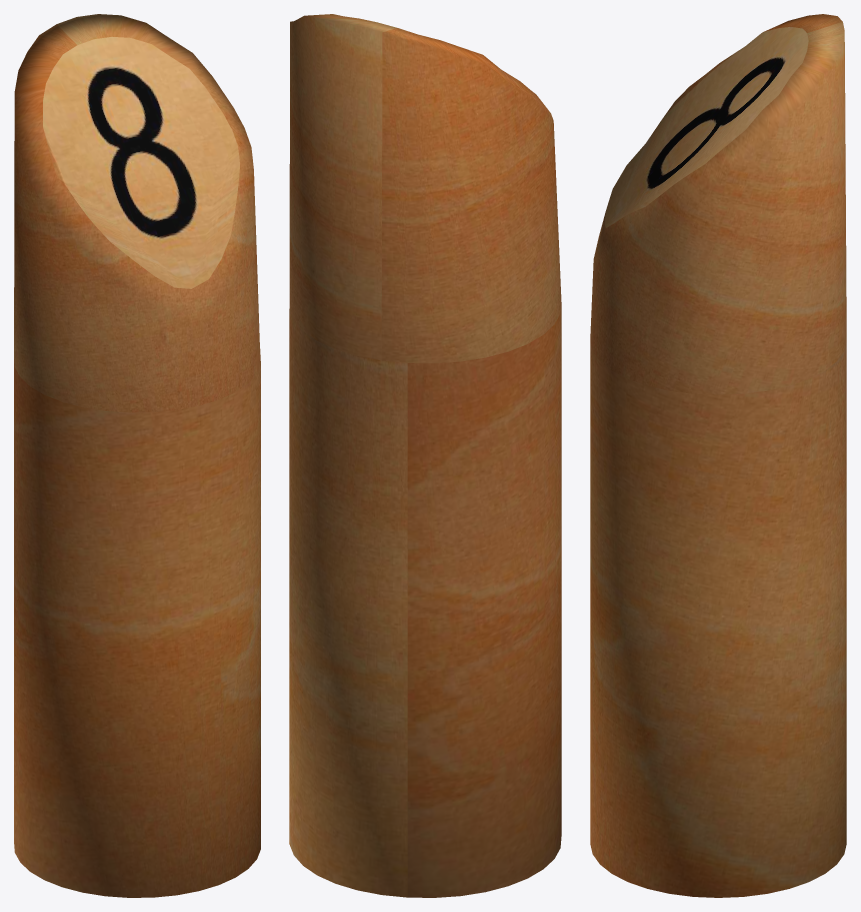
The model's file is molkky8.glb.
The picture shows the model from 3 angles, left to right: view 1: azimuth 30°, elevation 25°; view 2: azimuth 150°, elevation 25°; view 3: azimuth 270°, elevation 25°; orthographic projection. The views are drawn at different scales.
Parts seen in each view (by area): view 1: Cylinder.003; view 2: Cylinder.003; view 3: Cylinder.003.
Boxes of the visible parts, bbox=[...] form: Cylinder.003: bbox=[14, 14, 260, 897]; Cylinder.003: bbox=[289, 14, 561, 897]; Cylinder.003: bbox=[590, 14, 846, 897].
Bounding box in the file's own units: 0.4975 × 1.74 × 0.4975.
Materials: 1 (1 with a texture image).
